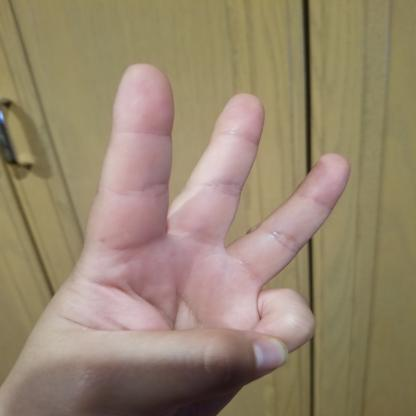W: (1, 59, 356, 415)
